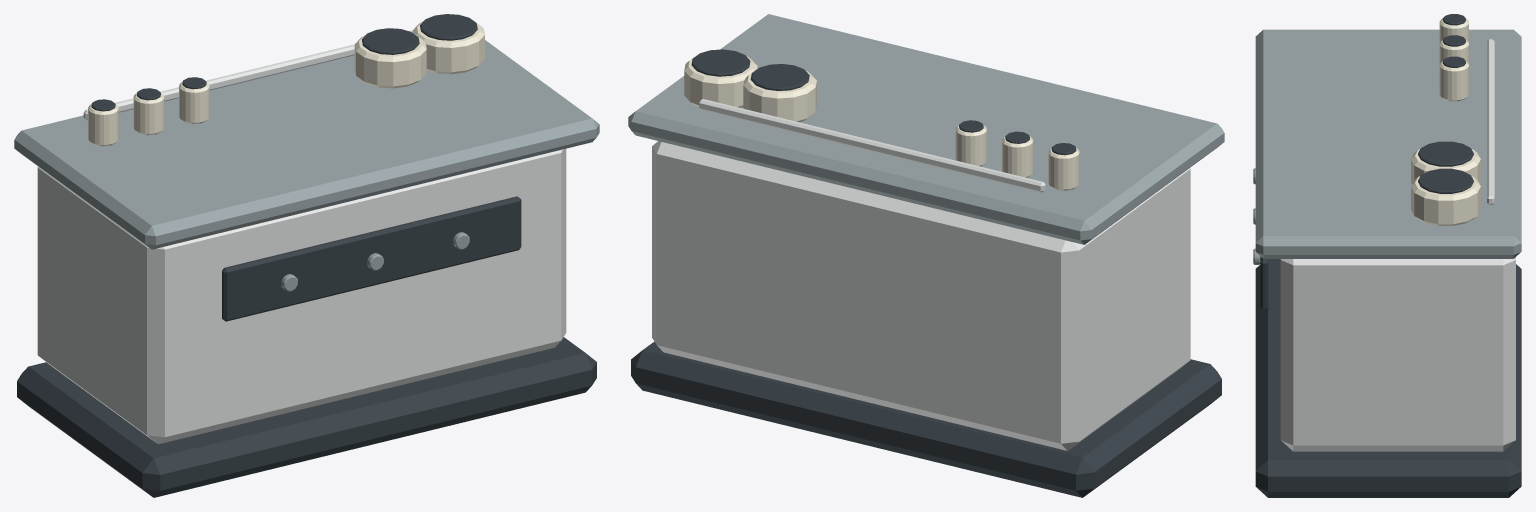
The model's file is PlatingStation.glb.
The picture shows the model from 3 angles, left to right: view 1: azimuth 30°, elevation 25°; view 2: azimuth 150°, elevation 25°; view 3: azimuth 270°, elevation 25°; orthographic projection. The views are drawn at different scales.
Parts seen in each view (by area): view 1: Cabinet, Countertop, Foundation, ServiceStrip, ServingBowl_00, ServingBowl_01, WorkZoneBackRail, BowlInside_00, BowlInside_01, ServingCup_01, ServingCup_00, ServingCup_02; view 2: Cabinet, Countertop, Foundation, WorkZoneBackRail, ServingBowl_00, ServingBowl_01, BowlInside_01, BowlInside_00, ServingCup_00, ServingCup_02, ServingCup_01; view 3: Countertop, Cabinet, Foundation, ServingBowl_01, WorkZoneBackRail, BowlInside_00, BowlInside_01, ServingCup_02, ServingBowl_00, ServiceStrip, ServingCup_00, ServingCup_01.
Part boxes in pixels (x1,y1,x2,y2): Cabinet: (37,148,566,444); Countertop: (14,40,599,249); Foundation: (17,337,596,497); ServiceStrip: (222,196,521,321); ServingBowl_00: (354,34,426,88); ServingBowl_01: (412,20,484,74); WorkZoneBackRail: (83,30,412,120); BowlInside_00: (362,28,419,54); BowlInside_01: (420,14,477,40); ServingCup_01: (133,93,164,135); ServingCup_00: (88,104,118,146); ServingCup_02: (179,81,209,123); Cabinet: (652,141,1190,450); Countertop: (628,14,1224,244); Foundation: (631,341,1221,497); WorkZoneBackRail: (699,99,1045,192); ServingBowl_00: (743,70,816,122); ServingBowl_01: (684,55,757,107); BowlInside_01: (691,49,750,76); BowlInside_00: (750,64,809,90); ServingCup_00: (1048,147,1079,190); ServingCup_02: (955,125,986,166); ServingCup_01: (1002,136,1033,177); Countertop: (1255,29,1521,258); Cabinet: (1280,257,1515,451); Foundation: (1255,259,1521,497); ServingBowl_01: (1411,176,1480,225); WorkZoneBackRail: (1487,39,1494,204); BowlInside_00: (1418,141,1473,166); BowlInside_01: (1418,168,1473,193); ServingCup_02: (1439,60,1468,101); ServingBowl_00: (1411,148,1480,183); ServiceStrip: (1260,256,1268,310); ServingCup_00: (1439,17,1468,42); ServingCup_01: (1439,39,1468,63).
Size of the model in its own units: 1.8 by 1.18 by 0.9575.
